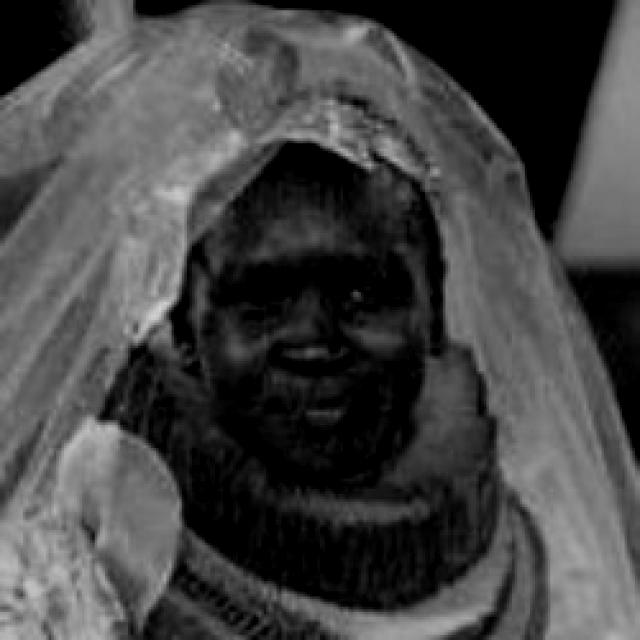real: (194, 142, 436, 476), (232, 249, 405, 330)
